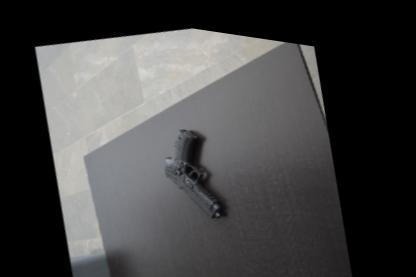pistol: (152, 112, 233, 222)
